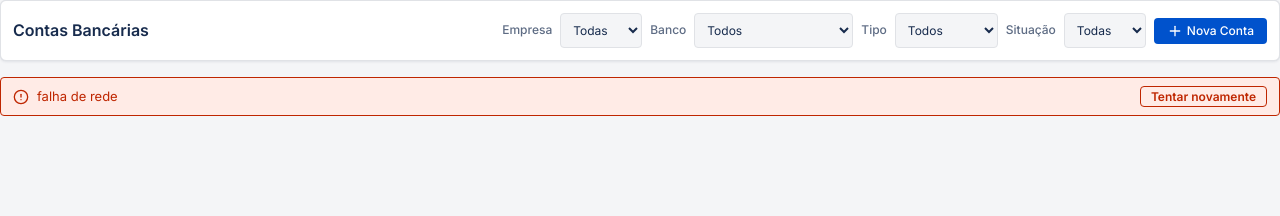
ContasBancarias › mostra o erro sem o vazio e tenta de novo
Expected: the text "falha de rede" is shown, [37,87,118,106]
Click the button "Tentar novamente": x=1203, y=96 [1140,86,1267,107]
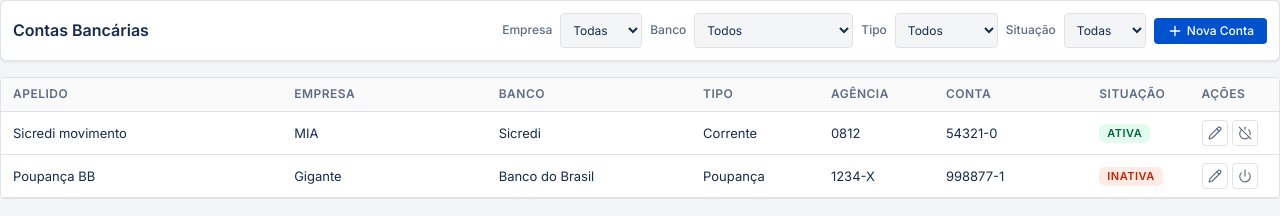
Expected: the text "Sicredi movimento" is shown, [1,111,282,154]
